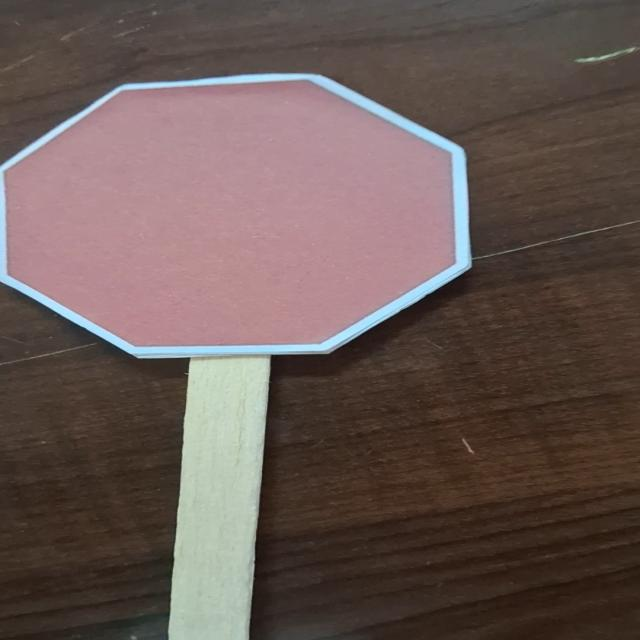Stop: (0, 55, 497, 370)
